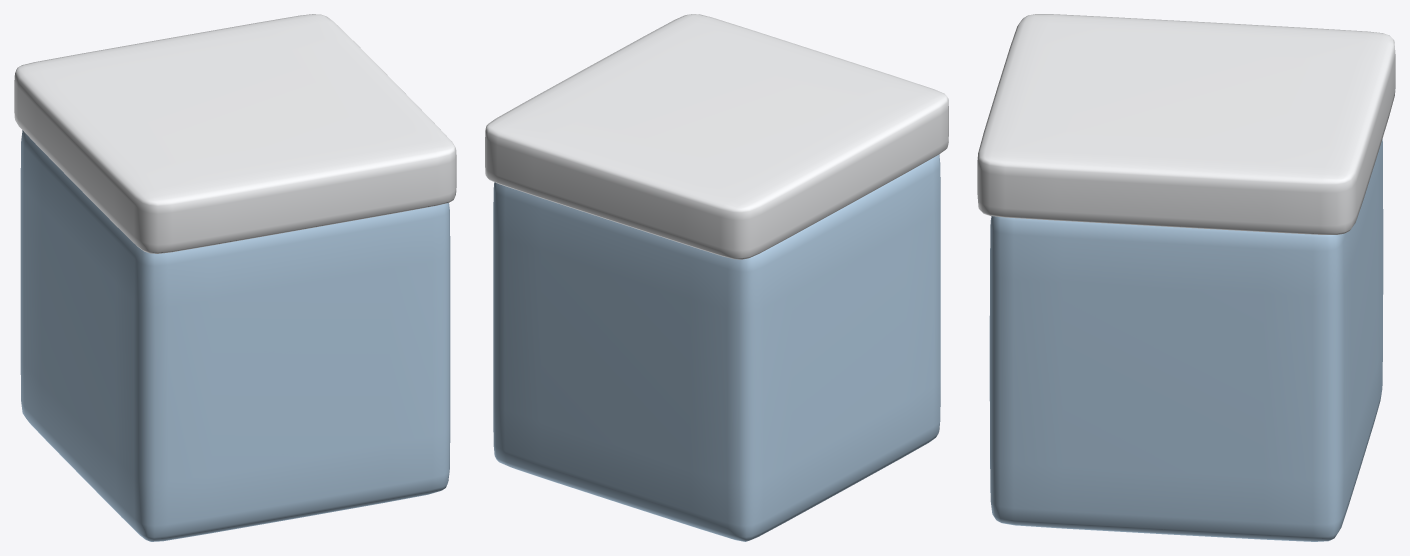
Rendered from PROP_TrashBin_v0.glb.
3 views of the same model, side by side, from view 1: azimuth 30°, elevation 25°; view 2: azimuth 150°, elevation 25°; view 3: azimuth 270°, elevation 25° (orthographic). The views are drawn at different scales.
Visible parts, largest first — view 1: PROP_TrashBin_v0; view 2: PROP_TrashBin_v0; view 3: PROP_TrashBin_v0.
Boxes of the visible parts, bbox=[...] form: PROP_TrashBin_v0: bbox=[14, 14, 456, 541]; PROP_TrashBin_v0: bbox=[485, 14, 948, 541]; PROP_TrashBin_v0: bbox=[977, 14, 1395, 541].
Bounding box in the file's own units: 1.12 × 1.15 × 1.17.
